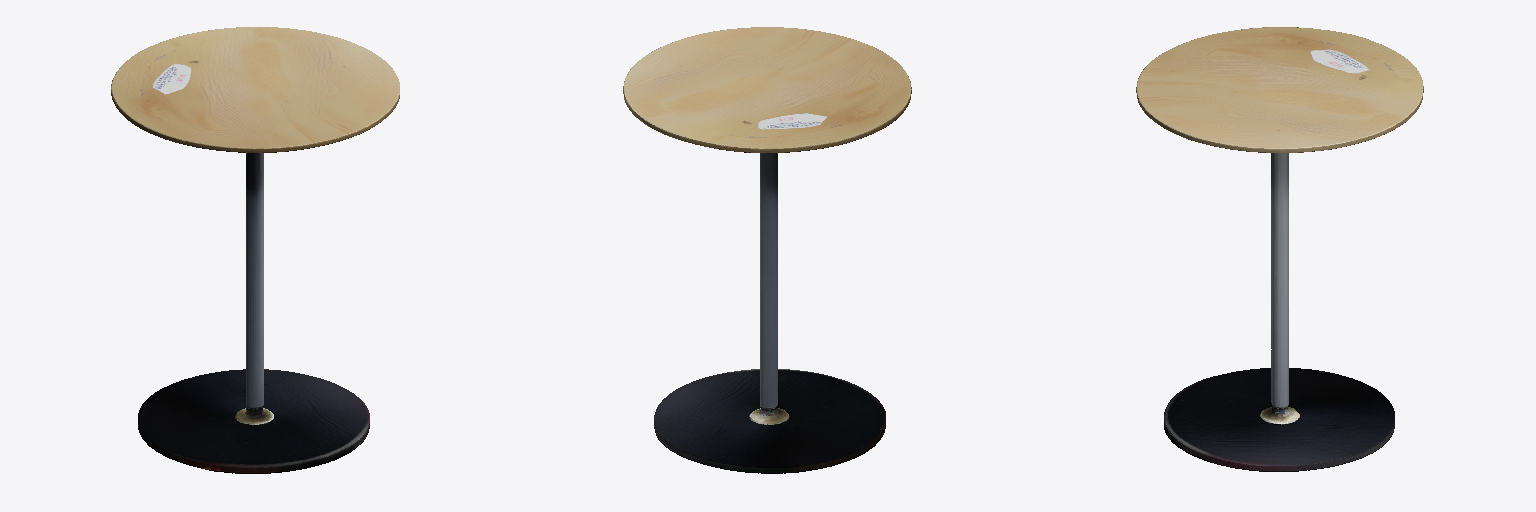
The picture shows the model from 3 angles: view 1: azimuth 30°, elevation 25°; view 2: azimuth 150°, elevation 25°; view 3: azimuth 270°, elevation 25°; orthographic projection.
Parts seen in each view (by area): view 1: geometry_0; view 2: geometry_0; view 3: geometry_0.
Part boxes in pixels (x1,y1,x2,y2): geometry_0: (111, 27, 399, 473); geometry_0: (623, 27, 911, 473); geometry_0: (1136, 27, 1423, 471).
Size of the model in its own units: 0.7763 by 1 by 0.7724.
1 materials, 1 textured.